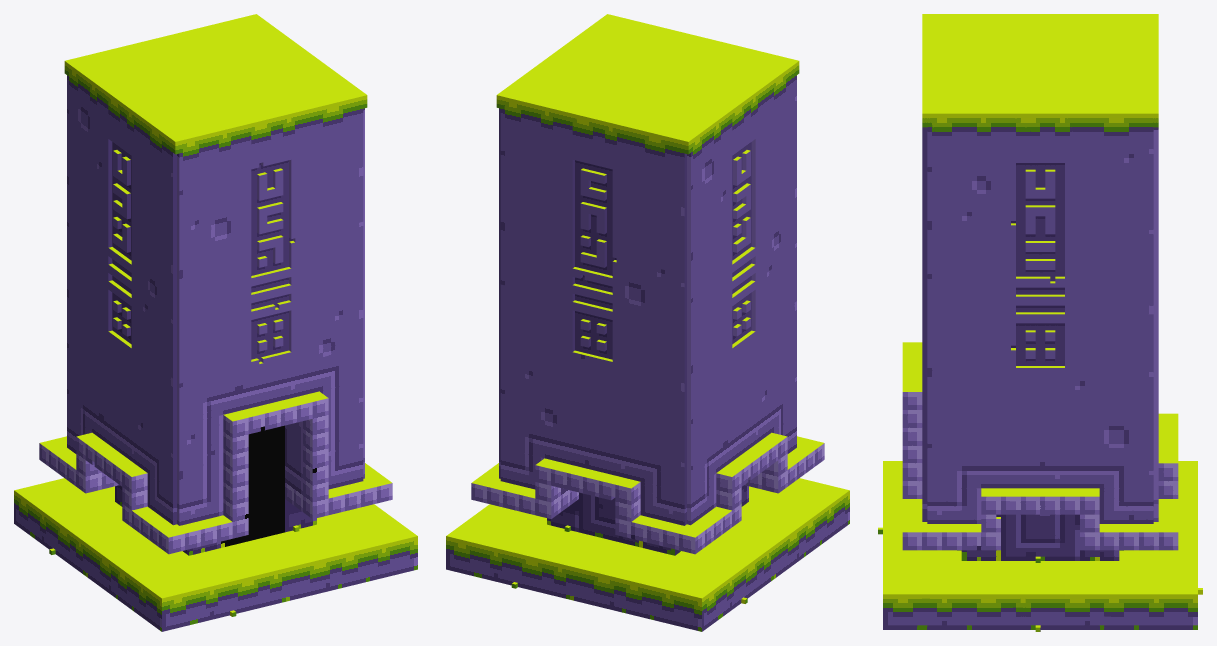
File: math_doorao.fezao.glb
3 renders of one model, left to right at view 1: azimuth 30°, elevation 25°; view 2: azimuth 150°, elevation 25°; view 3: azimuth 270°, elevation 25°, orthographic. The views are drawn at different scales.
Visible parts, largest first — view 1: MATH_DOORAO; view 2: MATH_DOORAO; view 3: MATH_DOORAO.
Part boxes in pixels (x1,y1,x2,y2): MATH_DOORAO: (14,14,417,631); MATH_DOORAO: (446,14,849,631); MATH_DOORAO: (878,14,1202,631).
Size of the model in its own units: 4.12 by 7 by 4.12.
1 material, 1 textured.
